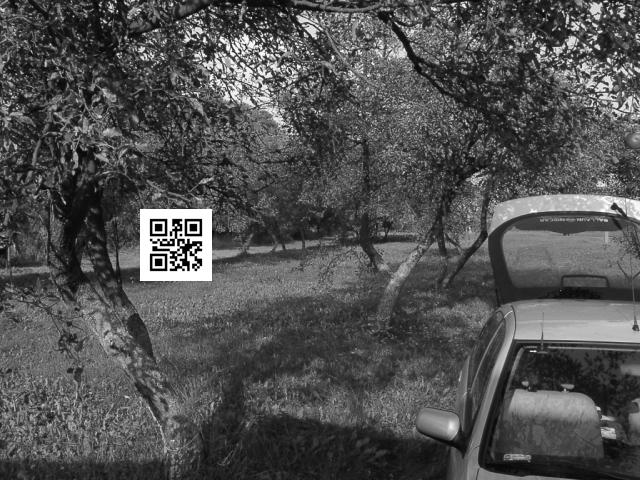qr_code: (139, 208, 212, 280)
